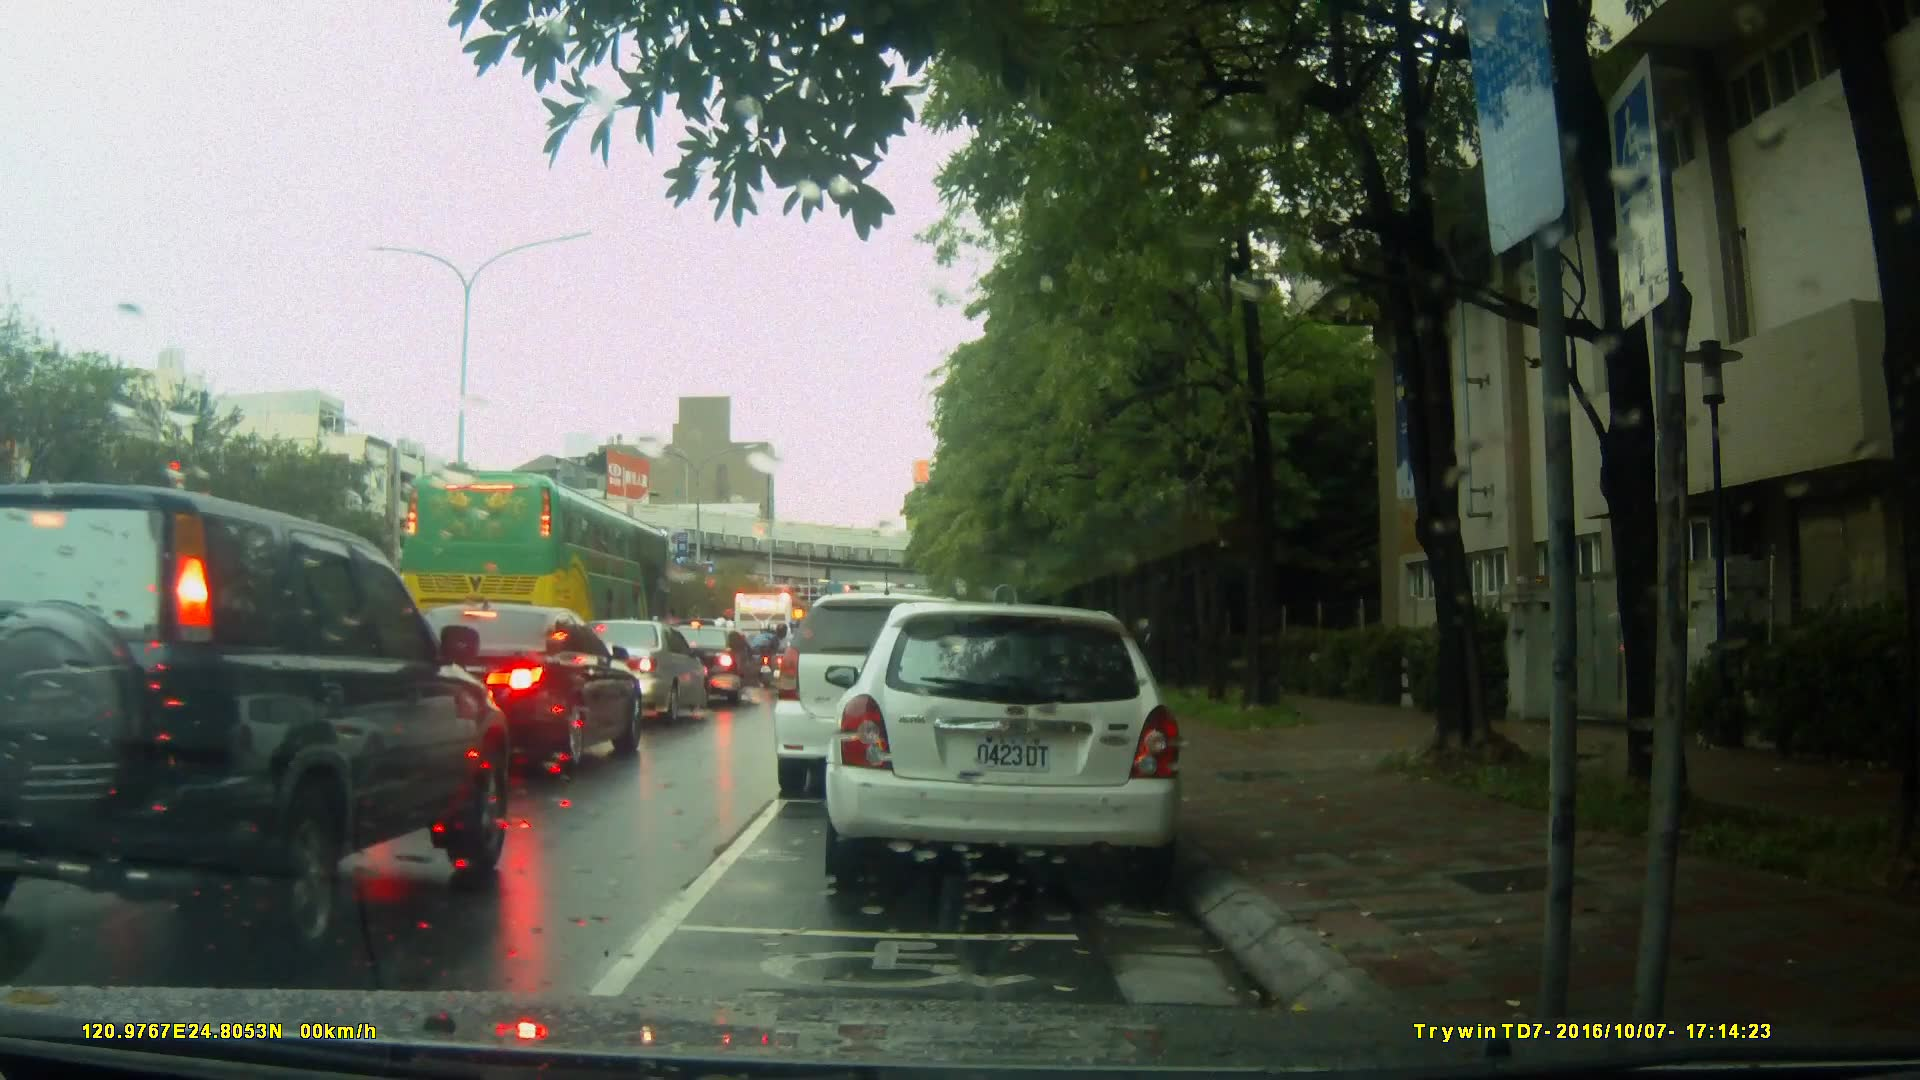vehicle: (1, 480, 520, 960), (831, 592, 1196, 897), (393, 469, 675, 659), (371, 603, 647, 775), (775, 597, 1000, 800), (556, 618, 711, 723), (663, 625, 765, 709)
